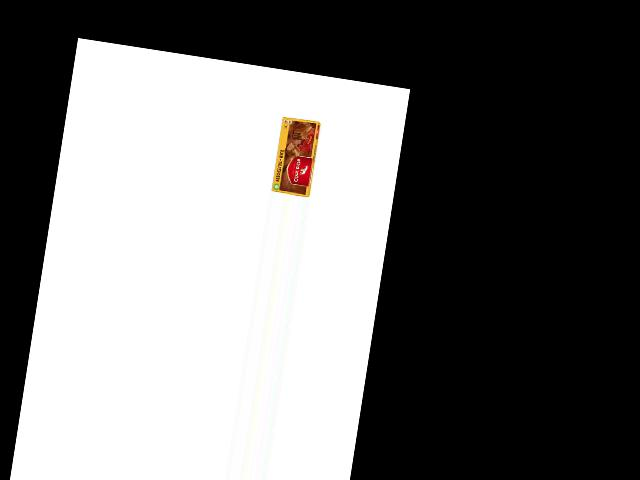chocolate: (264, 113, 323, 197)
